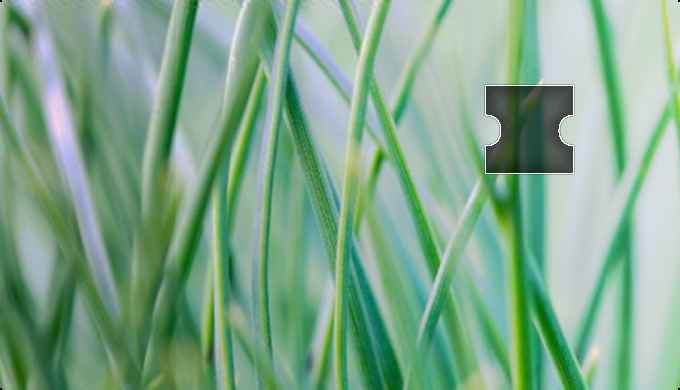gap: (484, 85, 574, 174)
